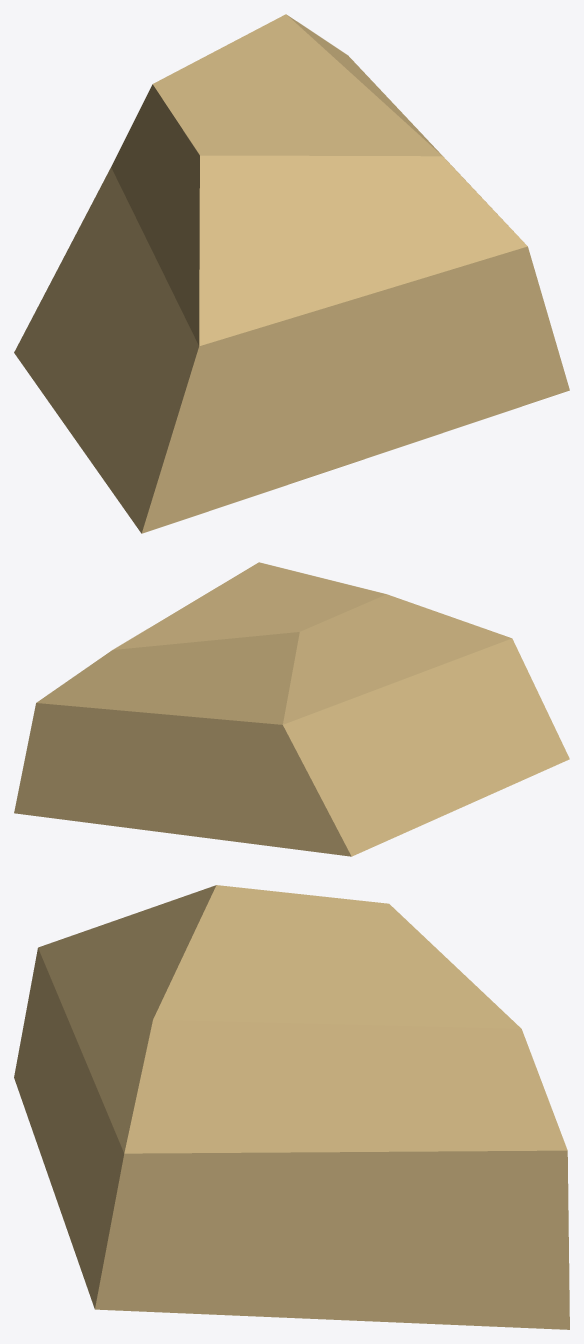
File: Rock_6_low.fbx
3 renders of one model, top to bottom at view 1: azimuth 30°, elevation 25°; view 2: azimuth 150°, elevation 25°; view 3: azimuth 270°, elevation 25°, orthographic. The views are drawn at different scales.
Visible parts, largest first — view 1: Stone_6_low; view 2: Stone_6_low; view 3: Stone_6_low.
Part boxes in pixels (left/top/right/bottom): Stone_6_low: left=14, top=14, right=569, bottom=533; Stone_6_low: left=14, top=562, right=569, bottom=856; Stone_6_low: left=14, top=885, right=569, bottom=1329.
Size of the model in its own units: 1.29 by 0.6459 by 1.2.
